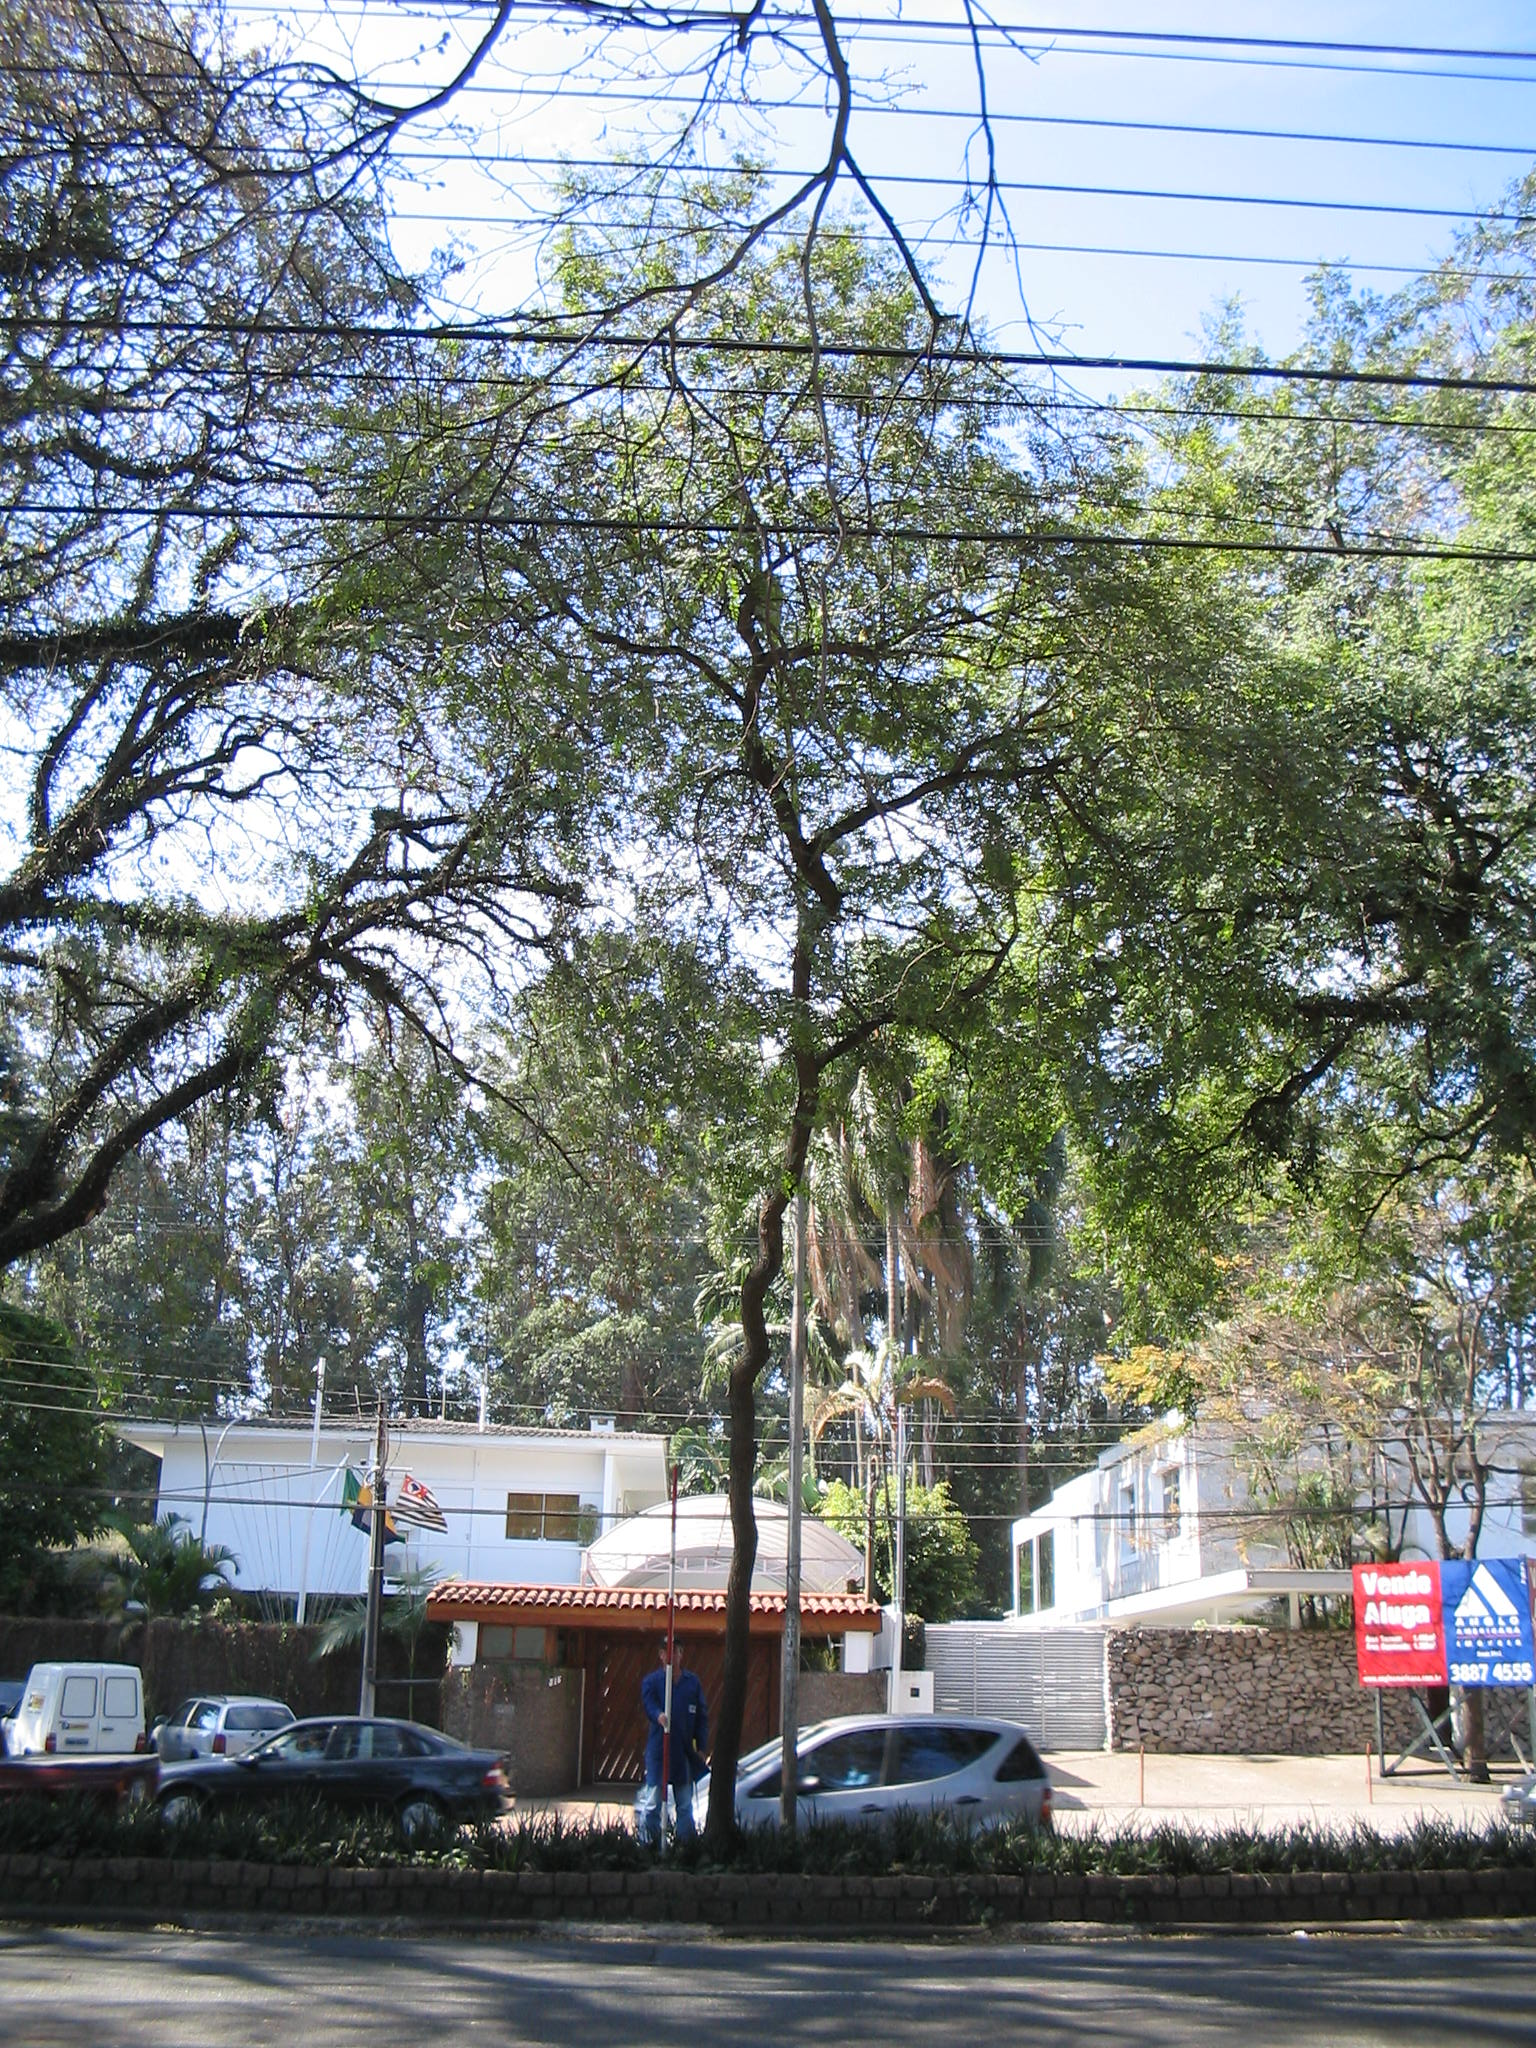crown: (274, 176, 1373, 1340)
stem: (678, 1063, 839, 1867)
stick: (636, 1463, 707, 1864)
tree: (266, 171, 1386, 1874)
